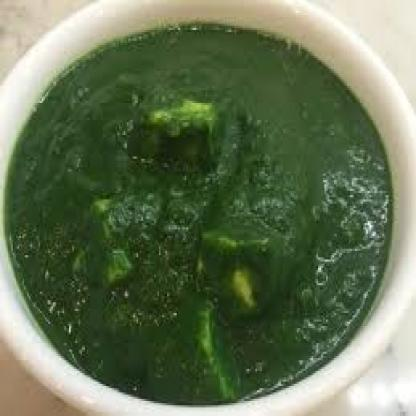palak_paneer: (3, 23, 394, 408)
